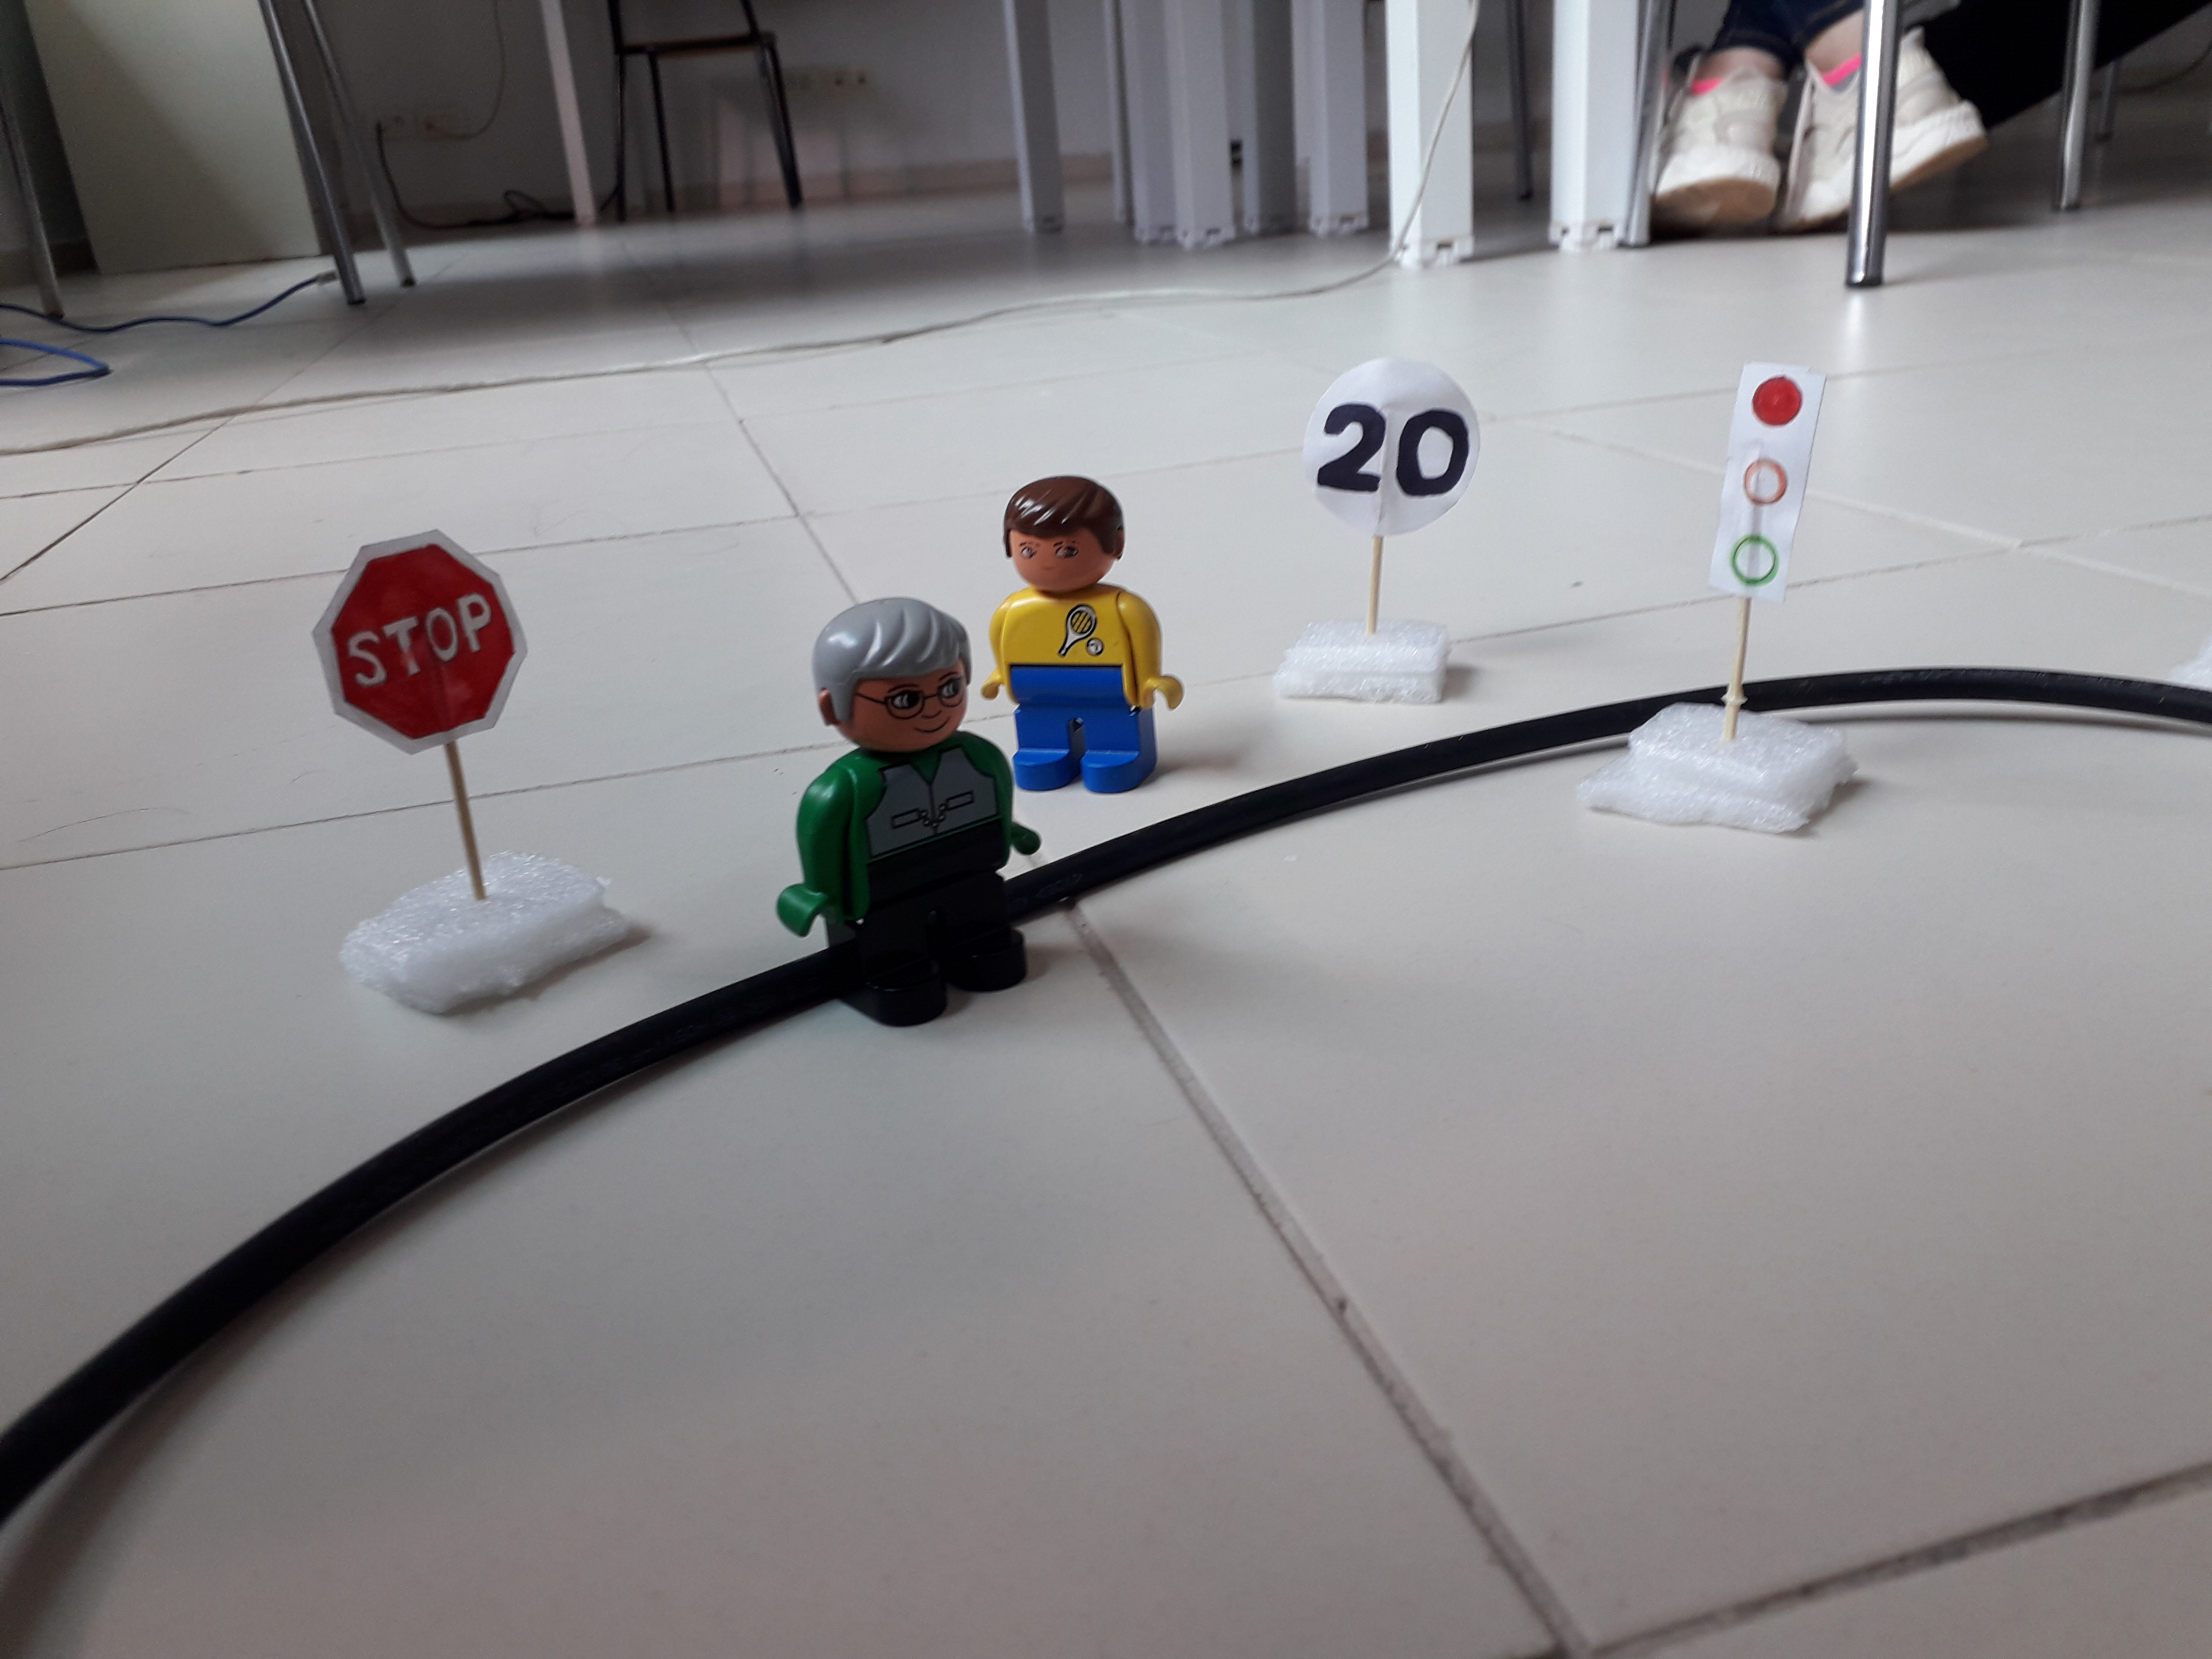20_sign: (1298, 360, 1482, 541)
person: (775, 597, 1038, 1046), (962, 474, 1201, 793)
red_light: (1704, 362, 1821, 600)
stop_sign: (301, 530, 533, 748)
